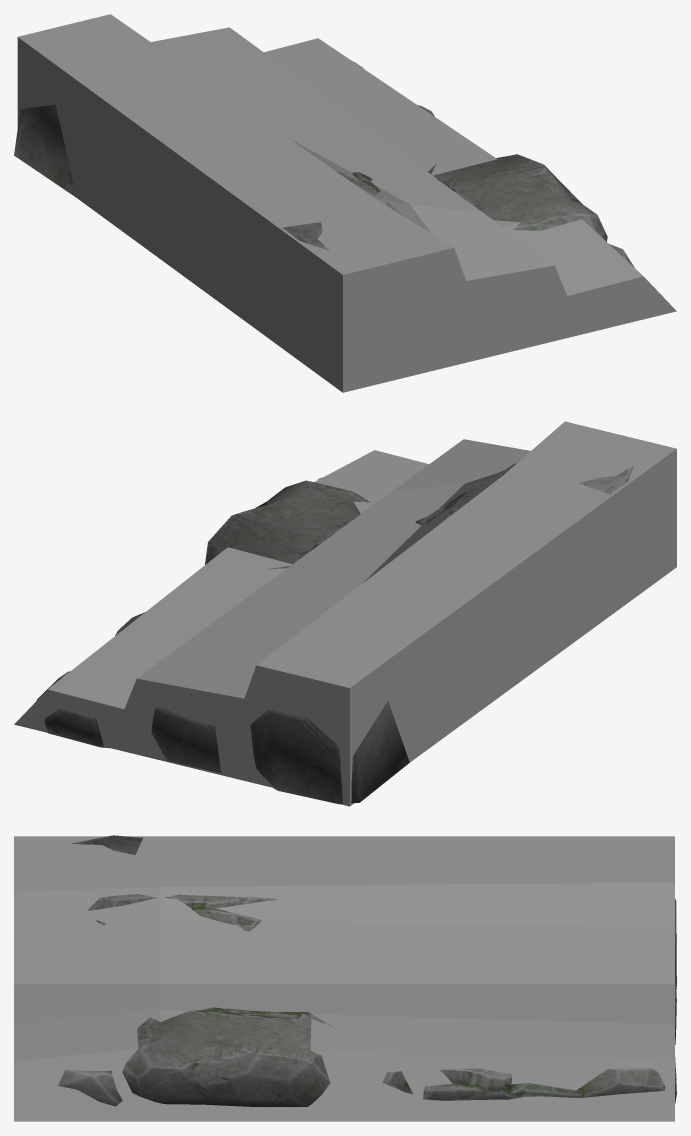
Rendered from Scene_Rock_ShaShiTi_1.fbx.
3 renders of one model, top to bottom at view 1: azimuth 30°, elevation 25°; view 2: azimuth 150°, elevation 25°; view 3: azimuth 270°, elevation 25°, orthographic.
Parts seen in each view (by area): view 1: Scene_Rock_SuiShiTi_3_Xzm, Scene_Rock_SuiShiTi_3; view 2: Scene_Rock_SuiShiTi_3_Xzm, Scene_Rock_SuiShiTi_3; view 3: Scene_Rock_SuiShiTi_3_Xzm, Scene_Rock_SuiShiTi_3.
Part boxes in pixels (x1,y1,x2,y2): Scene_Rock_SuiShiTi_3_Xzm: (17, 14, 676, 392); Scene_Rock_SuiShiTi_3: (14, 61, 634, 267); Scene_Rock_SuiShiTi_3_Xzm: (14, 421, 676, 806); Scene_Rock_SuiShiTi_3: (36, 463, 633, 804); Scene_Rock_SuiShiTi_3_Xzm: (14, 836, 674, 1121); Scene_Rock_SuiShiTi_3: (58, 835, 676, 1106).
Size of the model in its own units: 216 by 75.18 by 358.
